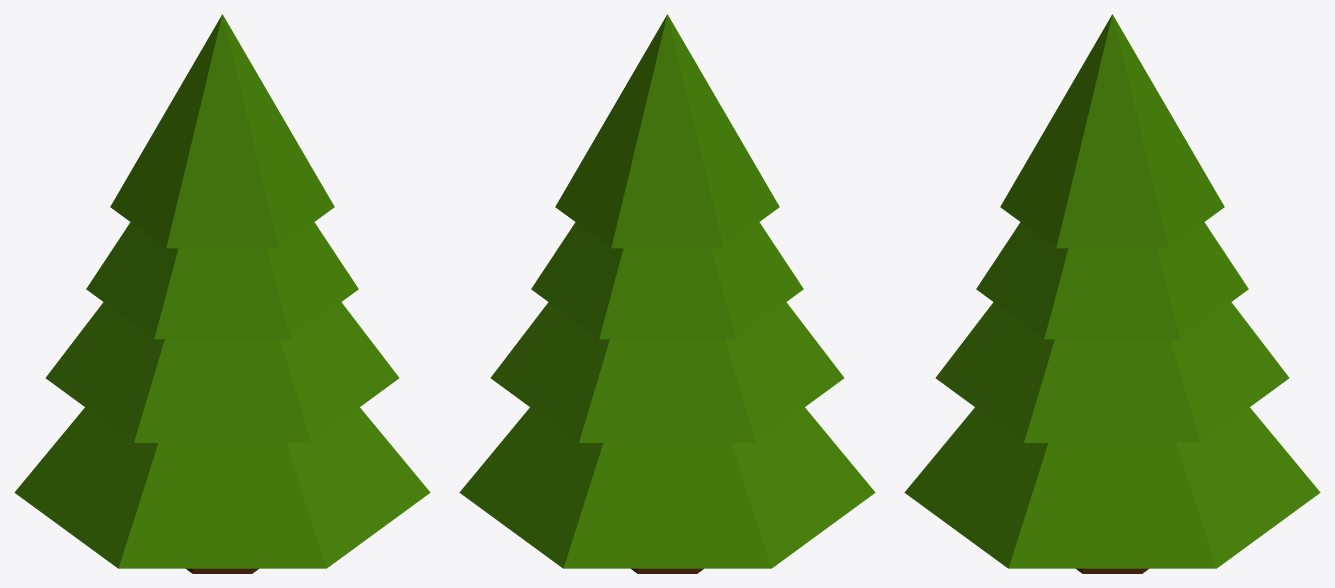
Rendered from T_Pine1.fbx.
3 views of the same model, side by side, from view 1: azimuth 30°, elevation 25°; view 2: azimuth 150°, elevation 25°; view 3: azimuth 270°, elevation 25° (orthographic).
Visible parts, largest first — view 1: Cylinder; view 2: Cylinder; view 3: Cylinder.
Boxes of the visible parts, x1=… form: Cylinder: x1=14, y1=14, x2=430, y2=573; Cylinder: x1=459, y1=14, x2=875, y2=573; Cylinder: x1=904, y1=14, x2=1320, y2=573.
Size of the model in its own units: 3.94 by 6.49 by 4.55.
